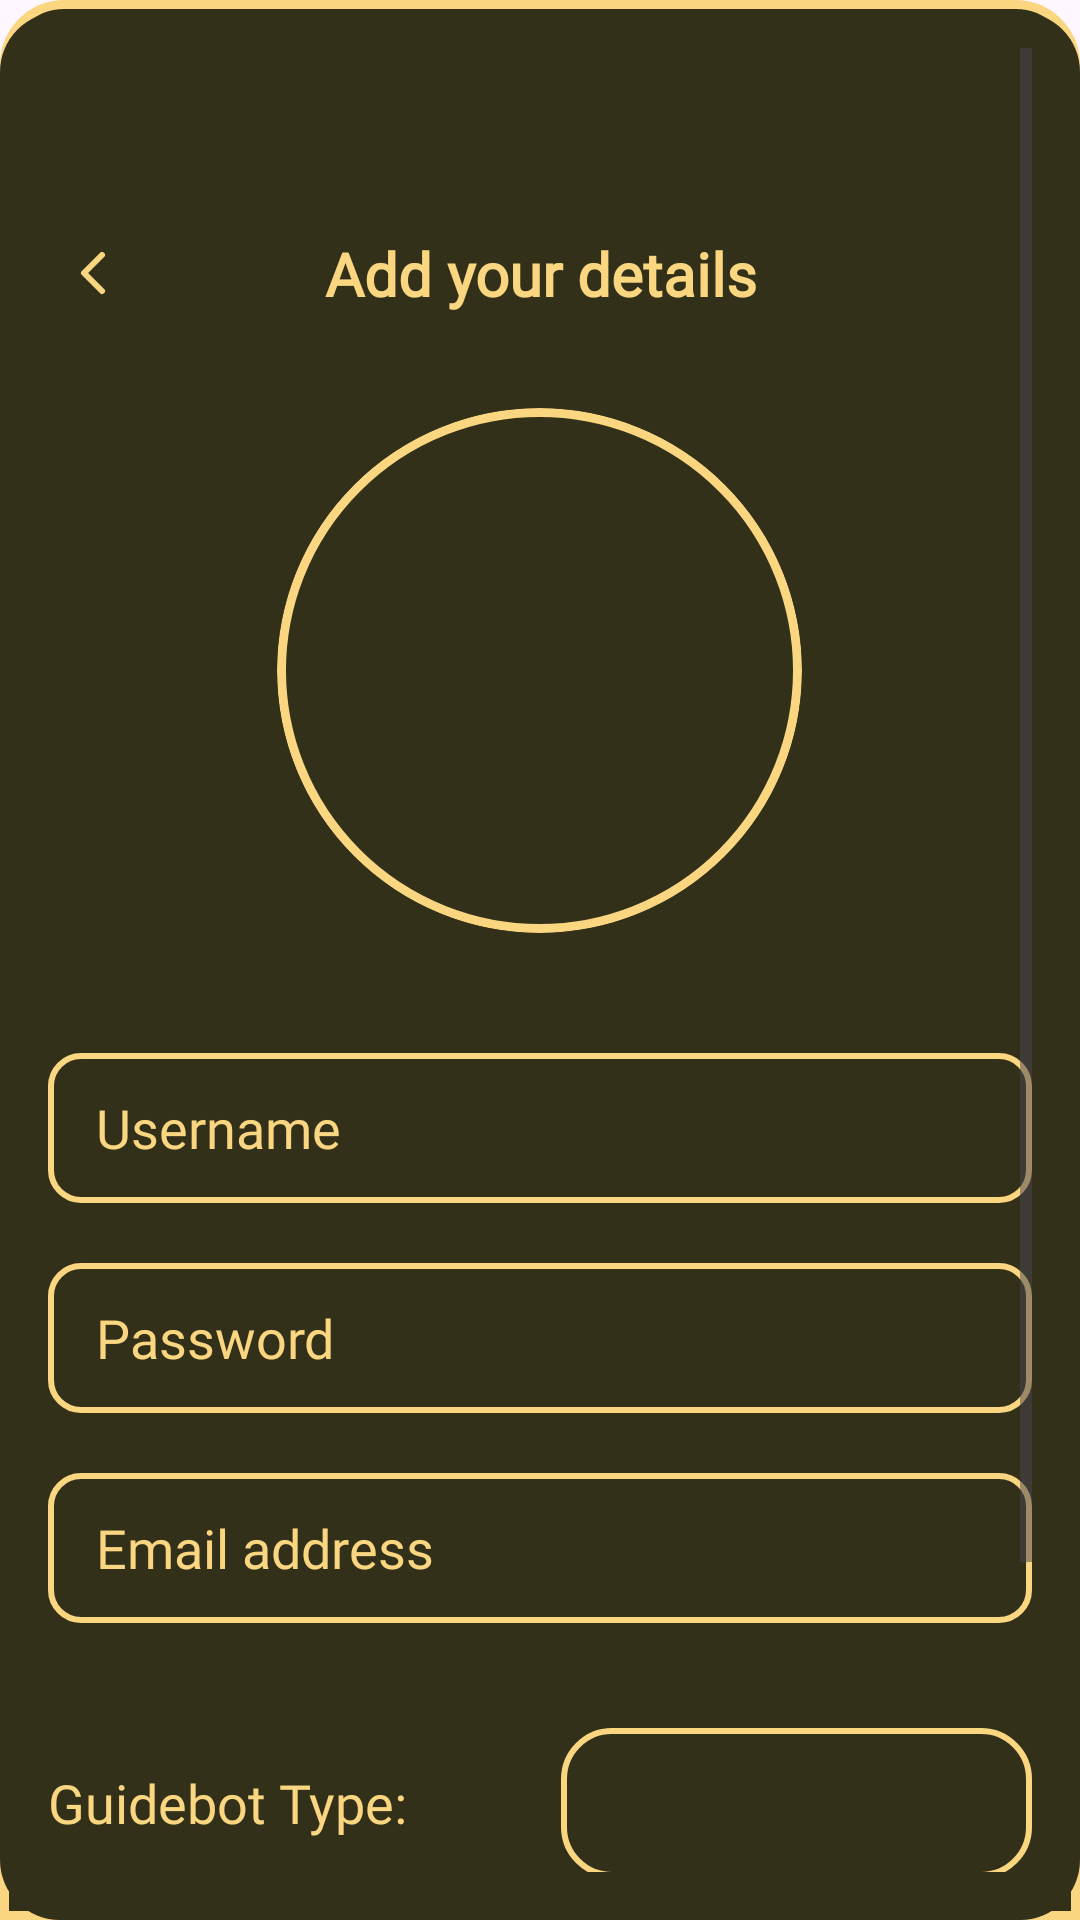

Icons on this 1080 x 1920 Android screen, each with the point to tap as point (x, y):
arrow left: point (93, 273)
